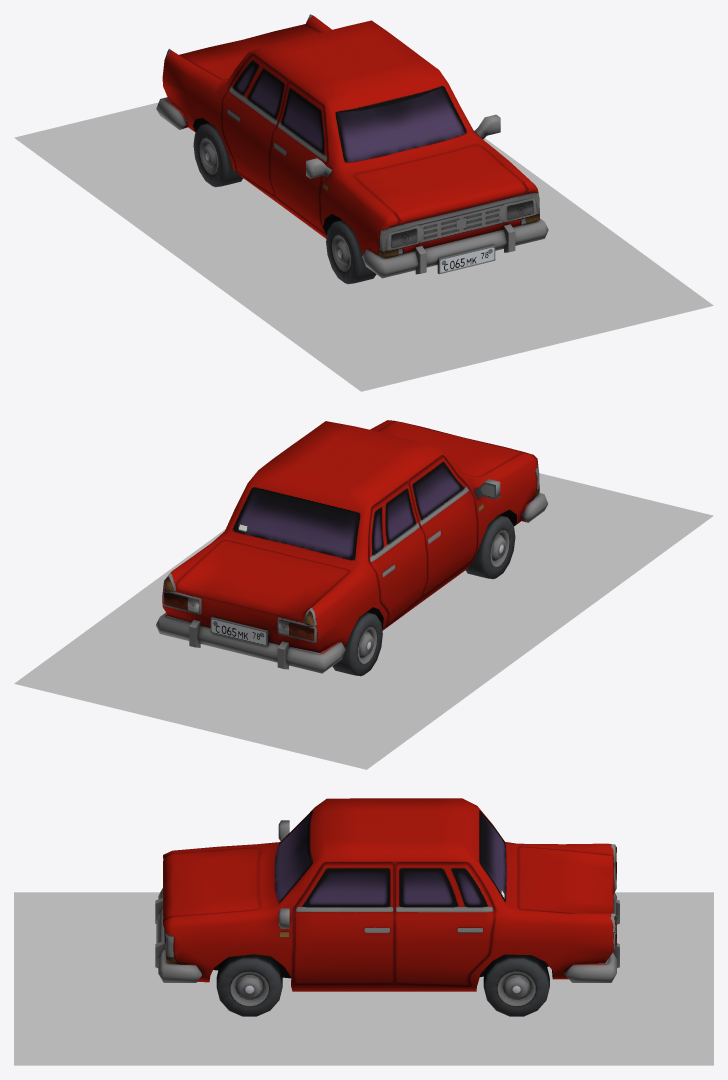
File: azlk.FBX
3 views of the same model, one above another, from view 1: azimuth 30°, elevation 25°; view 2: azimuth 150°, elevation 25°; view 3: azimuth 270°, elevation 25° (orthographic).
Parts seen in each view (by area): view 1: Plane001, Object001; view 2: Plane001, Object001; view 3: Object001, Plane001.
Part boxes in pixels (<box>): Plane001: <box>14,102,713,391</box>; Object001: <box>156,14,548,284</box>; Plane001: <box>14,473,713,769</box>; Object001: <box>156,420,548,676</box>; Object001: <box>155,798,619,1016</box>; Plane001: <box>14,892,713,1065</box>.
Bounding box in the file's own units: 263 × 108 × 448.
